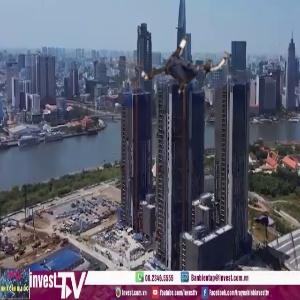drone: (142, 27, 226, 111)
